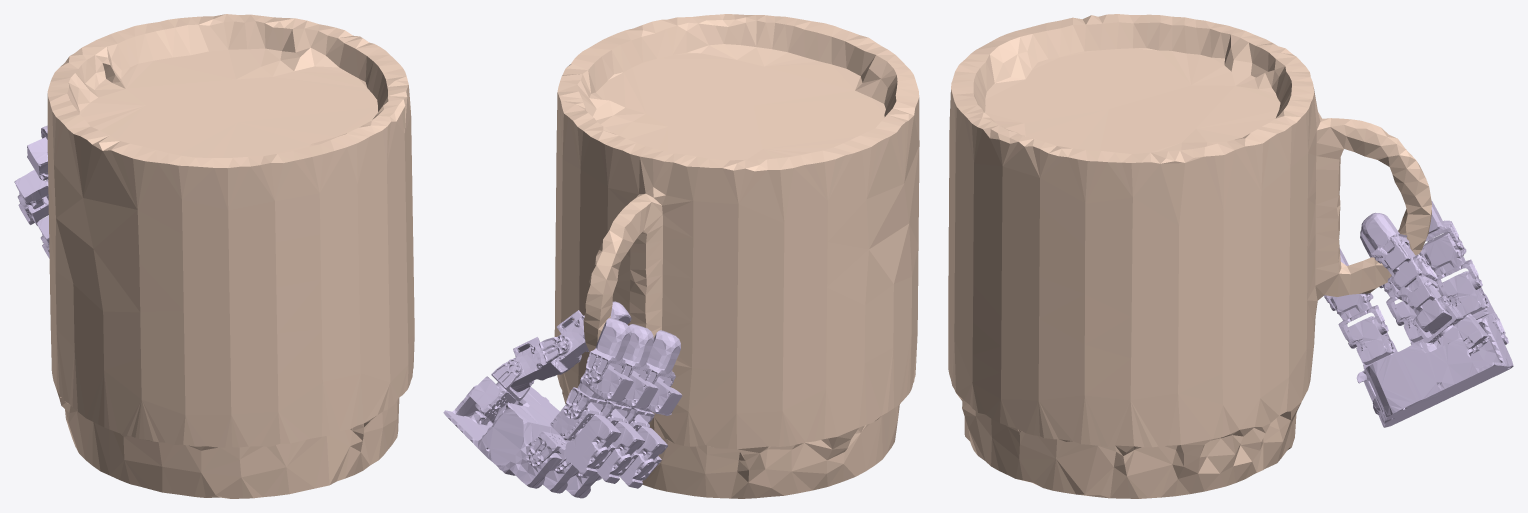
The model's file is a70c95a91b5fe9-closed.glb.
3 renders of one model, left to right at view 1: azimuth 30°, elevation 25°; view 2: azimuth 150°, elevation 25°; view 3: azimuth 270°, elevation 25°, orthographic.
Visible parts, largest first — view 1: world, LEAP_hand; view 2: world, LEAP_hand; view 3: world, LEAP_hand.
Part boxes in pixels (box(x1,y1,x2,y2)): world: box(47, 14, 414, 498); LEAP_hand: box(14, 125, 49, 258); world: box(554, 14, 919, 498); LEAP_hand: box(443, 301, 682, 498); world: box(948, 14, 1431, 498); LEAP_hand: box(1324, 200, 1513, 427).
Bounding box in the file's own units: 0.314 × 0.327 × 0.4815.
